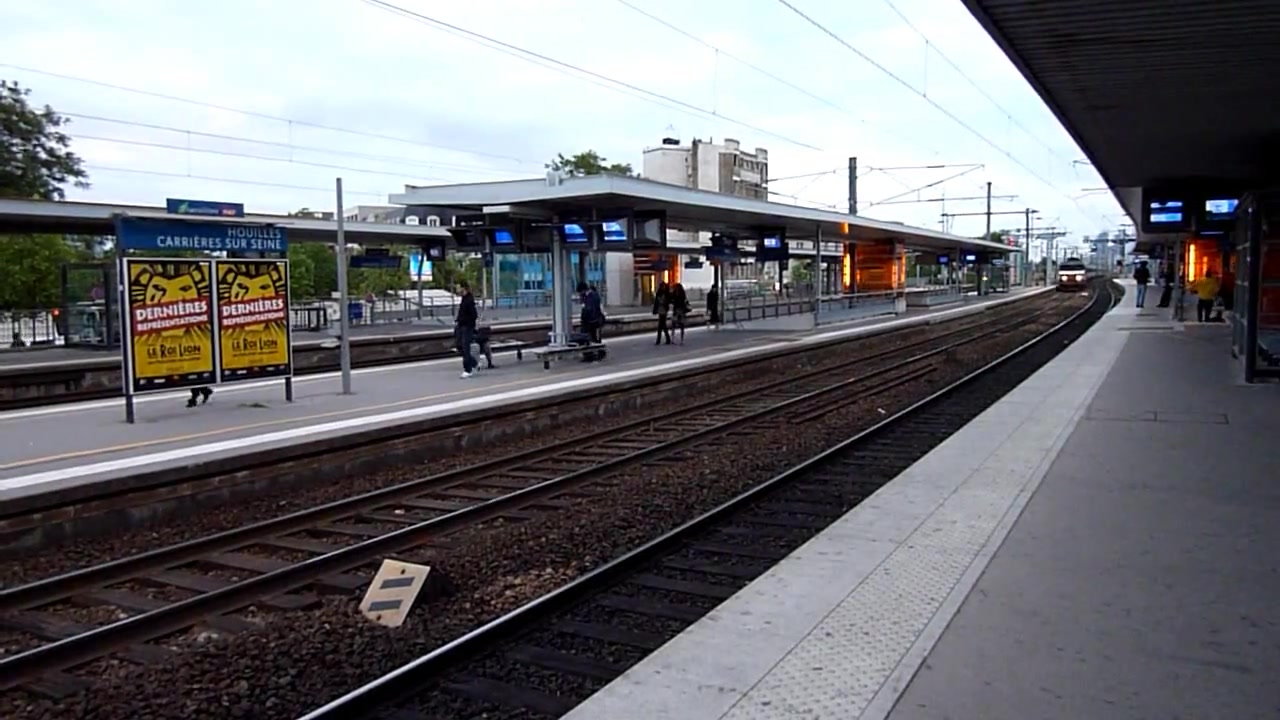train: (1054, 260, 1097, 294)
